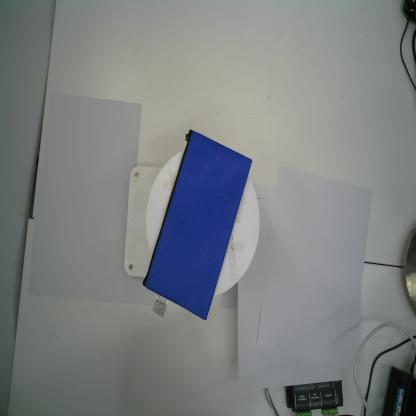Stationery: (140, 126, 254, 324)
